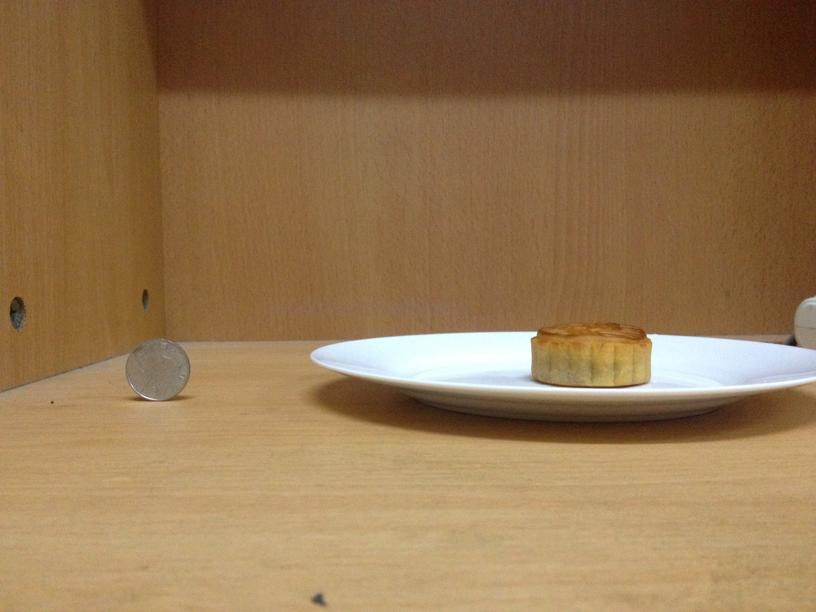coin: (124, 339, 190, 400)
mooncake: (526, 320, 652, 386)
